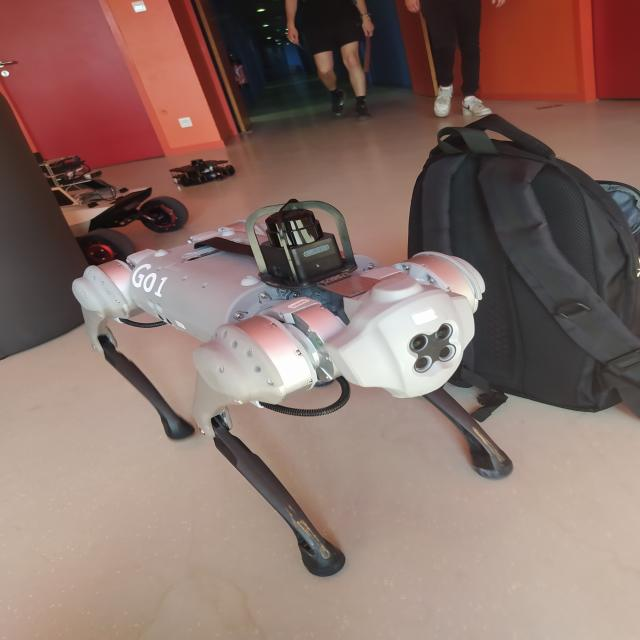unitree-go1-robot: (54, 187, 537, 588)
